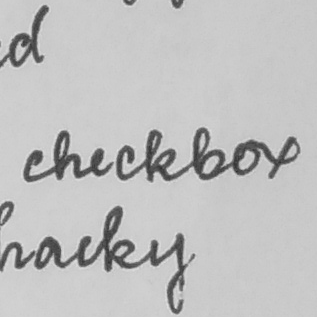b: (188, 124, 228, 181)
c: (112, 143, 138, 182), (20, 148, 46, 185)
e: (87, 145, 111, 179)
h: (50, 128, 86, 182)
k: (142, 126, 178, 186)
o: (230, 140, 262, 177)
x: (262, 133, 302, 181)
